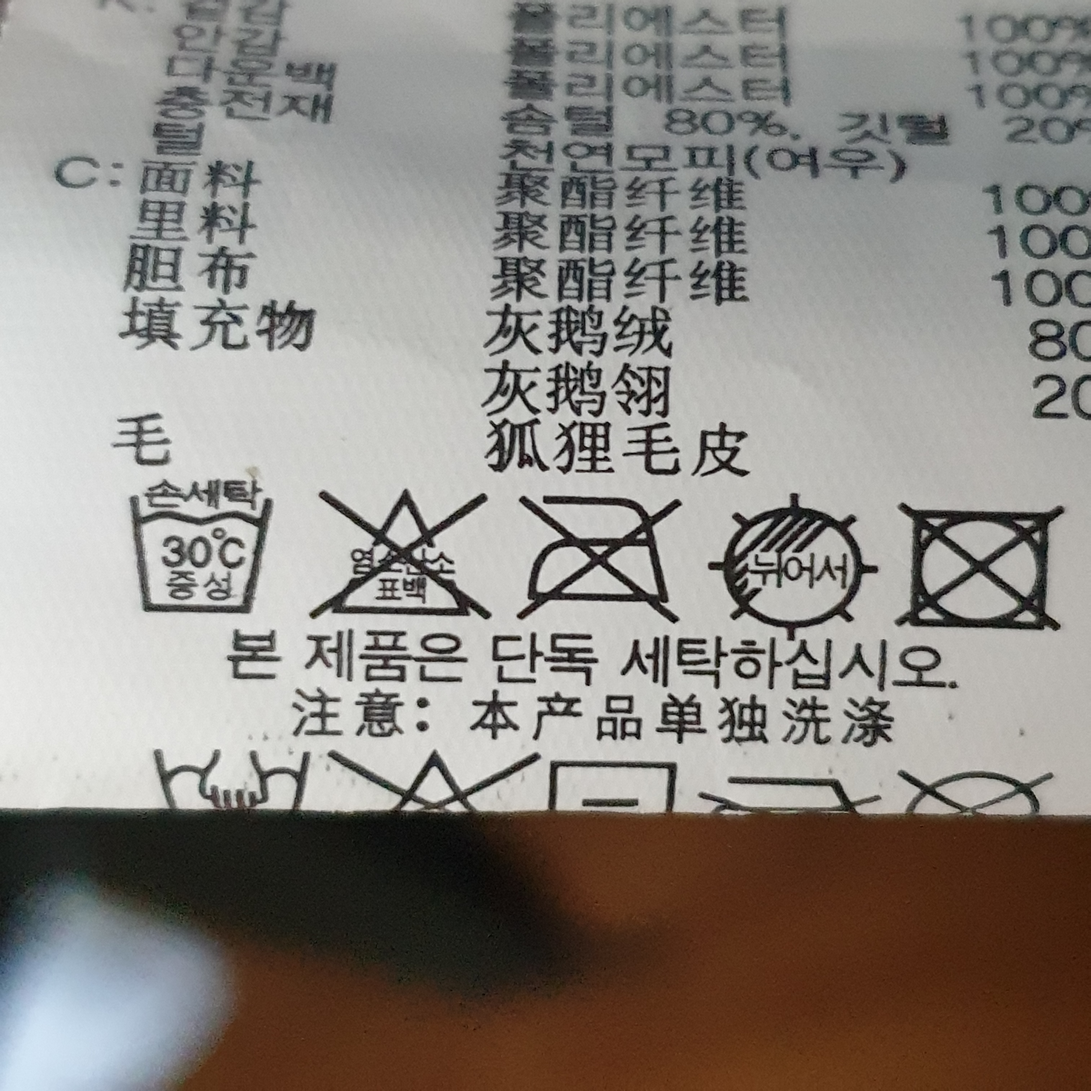KR_flat_dry_in_shade: (706, 489, 873, 633)
KR_hand_wash_30_neutral: (125, 471, 277, 624)
KR_no_bleach: (315, 484, 491, 622)
KR_no_iron: (519, 484, 682, 623)
KR_no_tumble_dry: (898, 489, 1060, 639)
